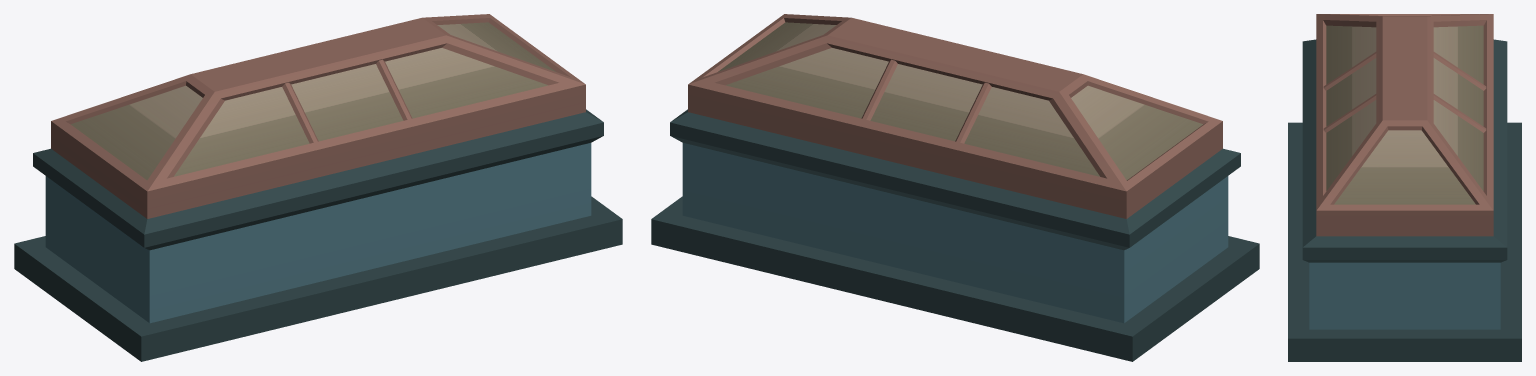
File: RoofLights_2_C.fbx
The picture shows the model from 3 angles, left to right: view 1: azimuth 30°, elevation 25°; view 2: azimuth 150°, elevation 25°; view 3: azimuth 270°, elevation 25°; orthographic projection. The views are drawn at different scales.
Parts seen in each view (by area): view 1: RoofLights_2_C; view 2: RoofLights_2_C; view 3: RoofLights_2_C.
Boxes of the visible parts, x1,y1,x2,y2 form: RoofLights_2_C: (14, 14, 622, 361); RoofLights_2_C: (651, 14, 1259, 361); RoofLights_2_C: (1288, 14, 1521, 361).
Size of the model in its own units: 216 by 86.65 by 98.88.
